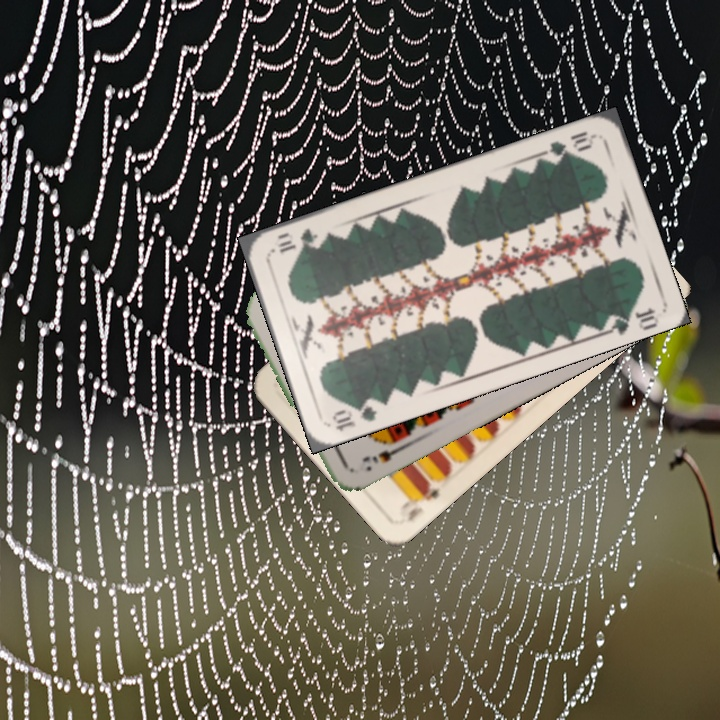E10: (395, 478, 442, 526)
G10: (541, 127, 599, 161), (328, 397, 380, 434)
S9: (357, 434, 408, 466)
